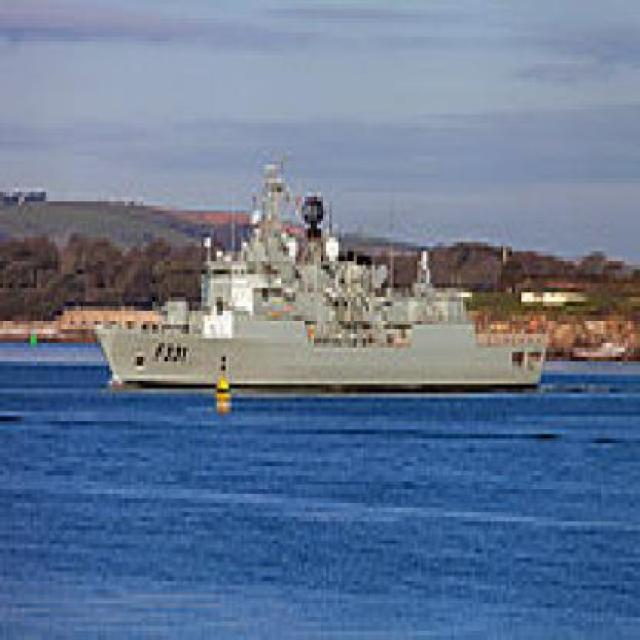warship2: (80, 147, 556, 409)
